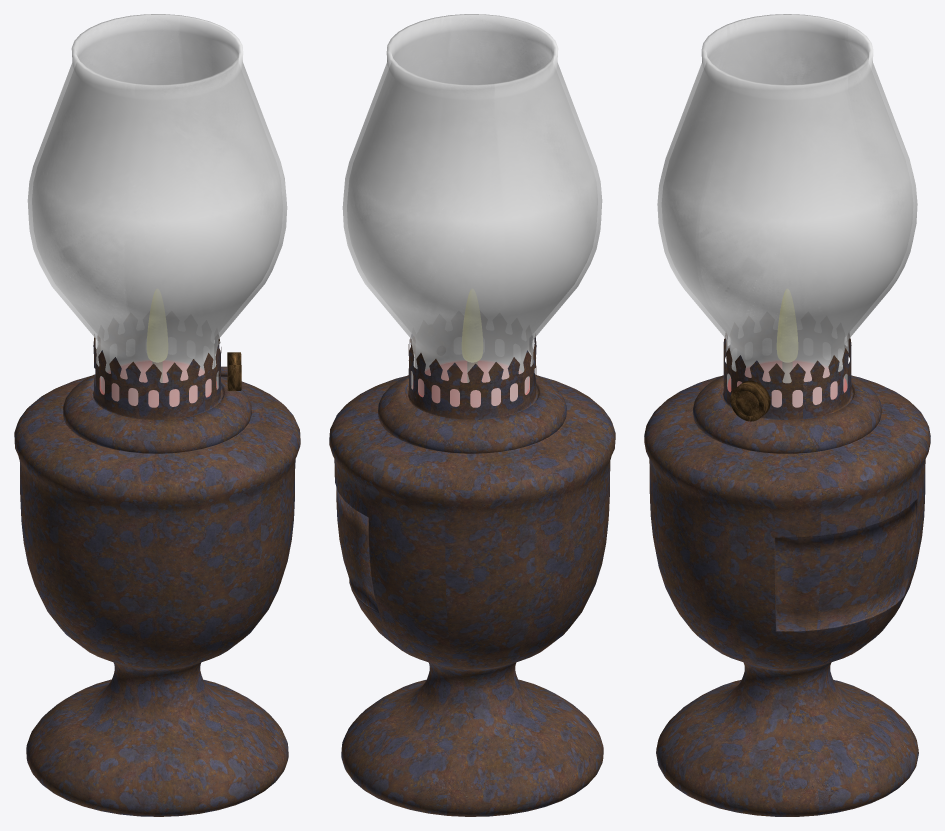
Rendered from lamp-web.glb.
The picture shows the model from 3 angles, left to right: view 1: azimuth 30°, elevation 25°; view 2: azimuth 150°, elevation 25°; view 3: azimuth 270°, elevation 25°; orthographic projection.
Visible parts, largest first — view 1: Curve_0, kinh_5, Cylinder.002_3, Sphere_6, Cylinder_1; view 2: Curve_0, kinh_5, Cylinder.002_3, Sphere_6; view 3: Curve_0, kinh_5, Cylinder_1, Sphere_6, Cylinder.002_3.
Boxes of the visible parts, bbox=[...] form: Curve_0: bbox=[14, 334, 300, 816]; kinh_5: bbox=[27, 14, 287, 407]; Cylinder.002_3: bbox=[99, 361, 217, 407]; Sphere_6: bbox=[147, 289, 167, 362]; Cylinder_1: bbox=[227, 352, 241, 390]; Curve_0: bbox=[329, 335, 615, 816]; kinh_5: bbox=[342, 14, 602, 407]; Cylinder.002_3: bbox=[412, 361, 529, 407]; Sphere_6: bbox=[462, 289, 482, 362]; Curve_0: bbox=[644, 333, 930, 816]; kinh_5: bbox=[657, 14, 917, 407]; Cylinder_1: bbox=[730, 380, 770, 421]; Sphere_6: bbox=[777, 289, 797, 361]; Cylinder.002_3: bbox=[727, 361, 847, 406].
Size of the model in its own units: 0.8712 by 2.4 by 0.8738.
Materials: 7 (4 with a texture image).
